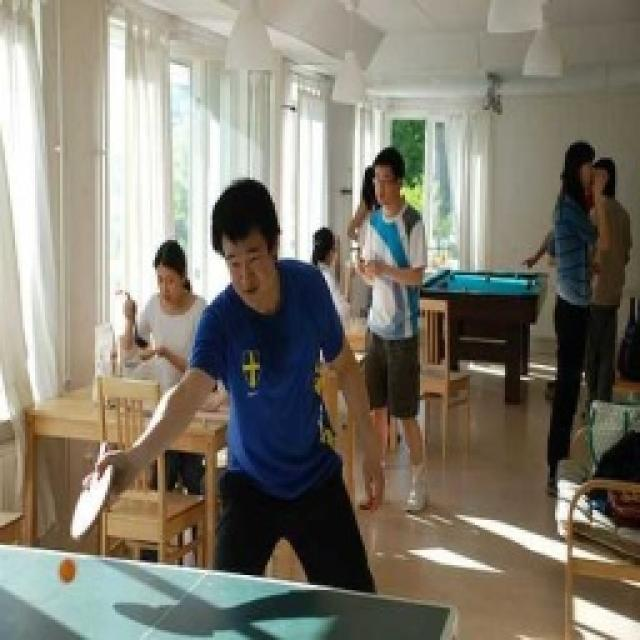oball: (57, 558, 76, 584)
